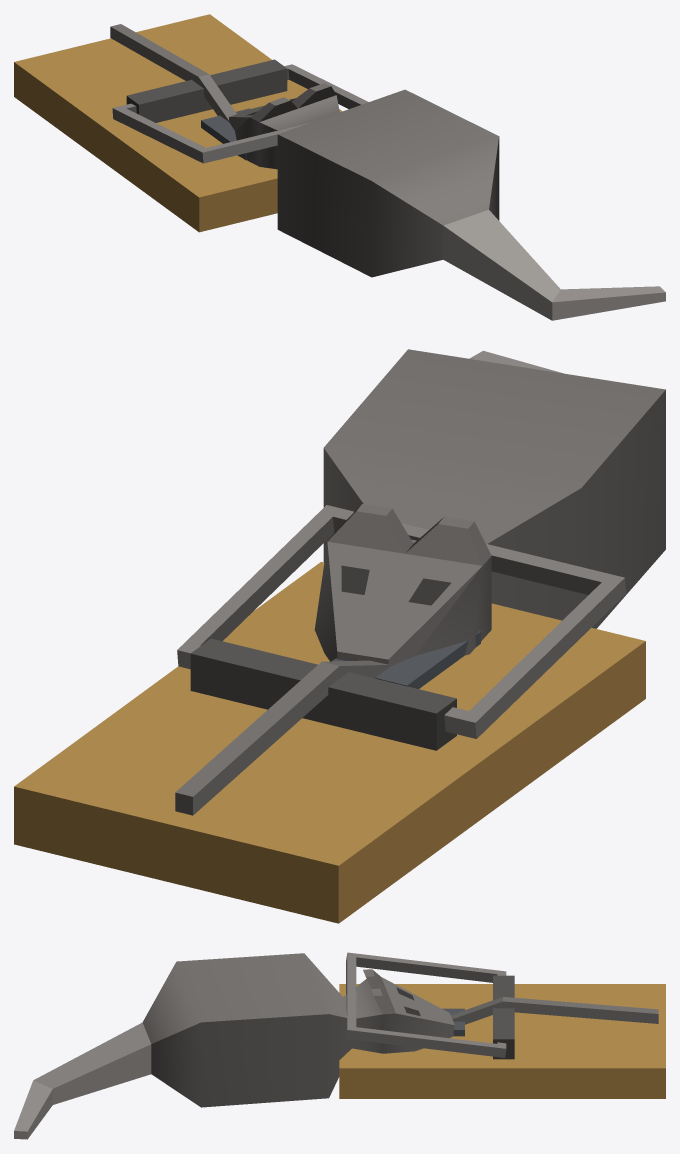
The model's file is AI_Item_Mousetrap.fbx.
The picture shows the model from 3 angles, top to bottom: view 1: azimuth 30°, elevation 25°; view 2: azimuth 150°, elevation 25°; view 3: azimuth 270°, elevation 25°; orthographic projection. The views are drawn at different scales.
Visible parts, largest first — view 1: AI_Item_Mousetrap; view 2: AI_Item_Mousetrap; view 3: AI_Item_Mousetrap.
Part boxes in pixels (left/top/right/bottom): AI_Item_Mousetrap: left=14, top=14, right=665, bottom=320; AI_Item_Mousetrap: left=14, top=349, right=665, bottom=923; AI_Item_Mousetrap: left=14, top=952, right=665, bottom=1139.
Bounding box in the file's own units: 0.5382 × 0.1894 × 1.21.
